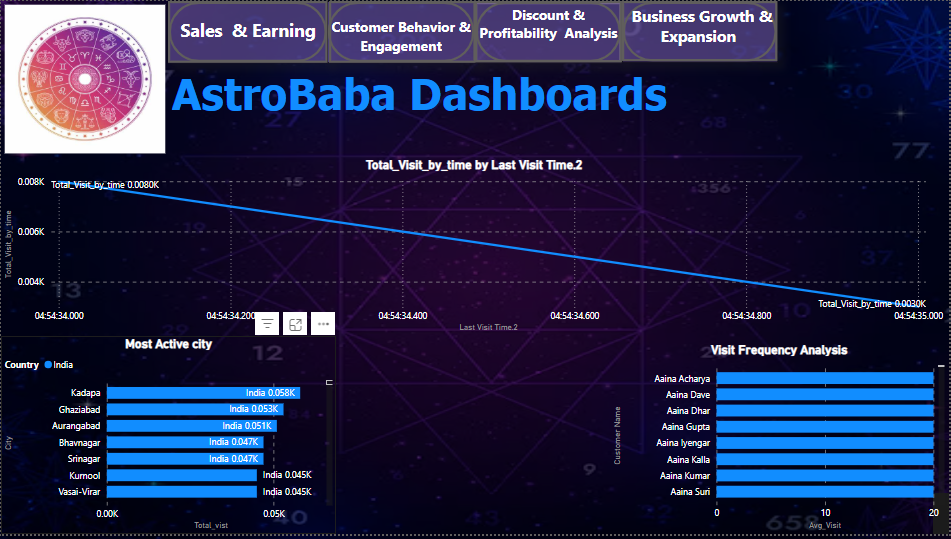

The dashboard page shown, as its layout file describes it:
{"tool":"powerbi","page":{"name":"Customer Behavior & Engagement","canvas":[1280,720],"ordinal":1},"visuals":[{"type":"image","box":[0,0,227.5,211.3],"z":0},{"type":"textbox","box":[225,83.3,990,128.3],"z":1000},{"type":"pieChart","title":"Most Profitable category","fields":{"Category":["AstroBaba.Payment Method"],"Y":["AstroBaba.Total_transaction"]},"box":[1258.9,664.5,20.4,17.5],"z":2000},{"type":"actionButton","box":[225.3,0,215.6,83.5],"z":3000},{"type":"textbox","box":[227.3,0,213.7,83.5],"z":4000},{"type":"actionButton","box":[641,1.9,198.1,81.6],"z":5000},{"type":"actionButton","box":[440.9,0,200.1,83.5],"z":6000},{"type":"actionButton","box":[641,0,198.1,83.5],"z":7000},{"type":"textbox","box":[440.9,0,200.1,83.5],"z":9000},{"type":"textbox","box":[440.9,0,200.1,83.5],"z":10000},{"type":"textbox","box":[641,0,198.1,83.5],"z":11000},{"type":"actionButton","box":[838.6,0,210,82.9],"z":13000},{"type":"textbox","box":[838.6,0,210,82.9],"z":14000},{"type":"actionButton","box":[225.3,0,215.6,83.5],"z":15000},{"type":"actionButton","box":[442.9,0,198.1,83.5],"z":16000},{"type":"actionButton","box":[838.6,0,210,81.4],"z":18000},{"type":"clusteredBarChart","title":"Most Active city","fields":{"Y":["AstroBaba.Total_vist"],"Category":["AstroBaba.City"],"Series":["AstroBaba.Country"]},"box":[0,452.9,452.9,267.1],"z":19000},{"type":"clusteredBarChart","title":"Visit Frequency Analysis","fields":{"Category":["AstroBaba.Customer Name"],"Y":["AstroBaba.Avg_Visit"]},"box":[822.9,461.4,457.1,258.6],"z":20000},{"type":"lineChart","fields":{"Y":["AstroBaba.Total_Visit_by_time"],"Category":["AstroBaba.Last Visit Time.2"]},"box":[0,211.4,1278.6,241.4],"z":21000},{"type":"actionButton","box":[640,0,198.6,82.9],"z":21001}]}

Visuals, with their boxes in screenshot pixels (x1, y1, x2, y2), scaled from the page's 1280x720 canvas onto the 951x539 screenshot:
image: 0,0,169,158
textbox: 167,62,903,158
"Most Profitable category" pieChart: 935,497,950,511
actionButton: 167,0,328,63
textbox: 169,0,328,63
actionButton: 476,1,623,63
actionButton: 328,0,476,63
actionButton: 476,0,623,63
textbox: 328,0,476,63
textbox: 328,0,476,63
textbox: 476,0,623,63
actionButton: 623,0,779,62
textbox: 623,0,779,62
actionButton: 167,0,328,63
actionButton: 329,0,476,63
actionButton: 623,0,779,61
"Most Active city" clusteredBarChart: 0,339,336,538
"Visit Frequency Analysis" clusteredBarChart: 611,345,950,538
lineChart - AstroBaba.Total_Visit_by_time x AstroBaba.Last Visit Time.2: 0,158,950,339
actionButton: 476,0,623,62
